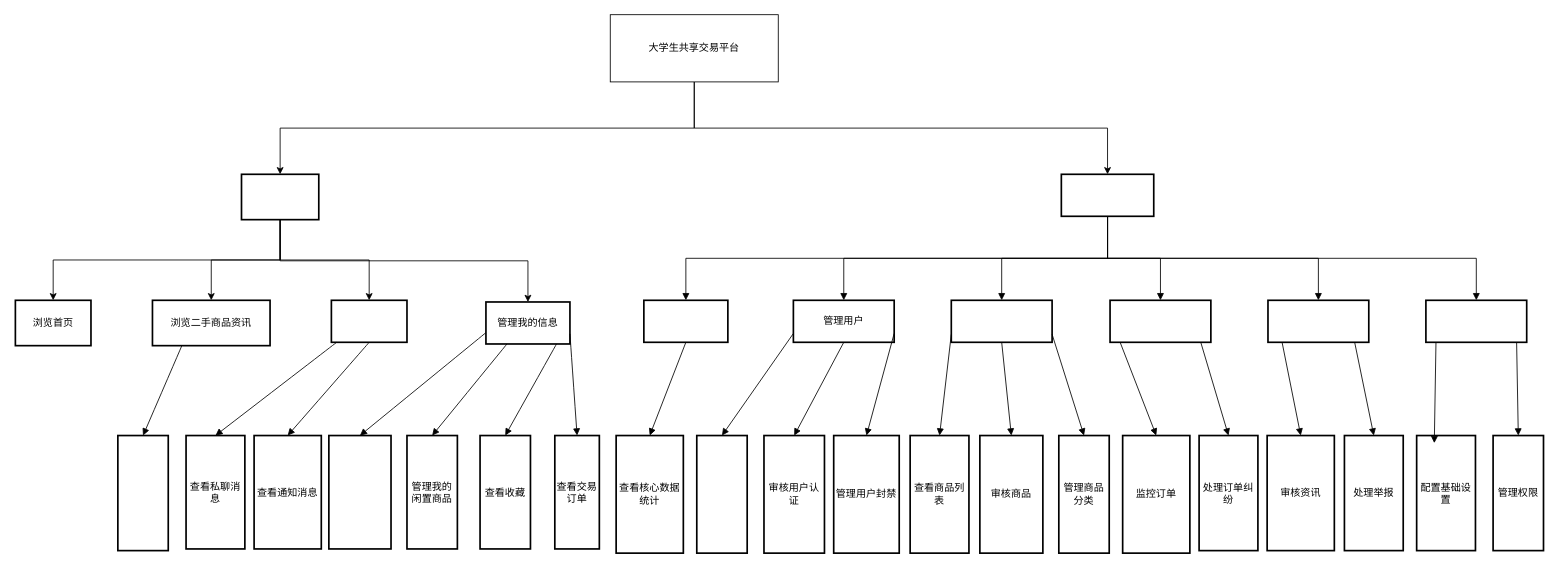
The diagram is 1559 pixels wide and 569 high, and some of its shapes have lost their labels. The shapes that lost their labels are listed below. From the top down, each one's centre as x and y in pixels, then its label:
At (x=279, y=196): "用户".
At (x=1107, y=195): "管理员".
At (x=368, y=321): "处理消息".
At (x=685, y=321): "查看数据看板".
At (x=1001, y=321): "管理商品".
At (x=1160, y=321): "管理订单".
At (x=1318, y=321): "审核内容".
At (x=1476, y=321): "配置系统".
At (x=143, y=492): "查看商品详情".
At (x=359, y=491): "查看基本信息".
At (x=722, y=494): "查看用户列表".
